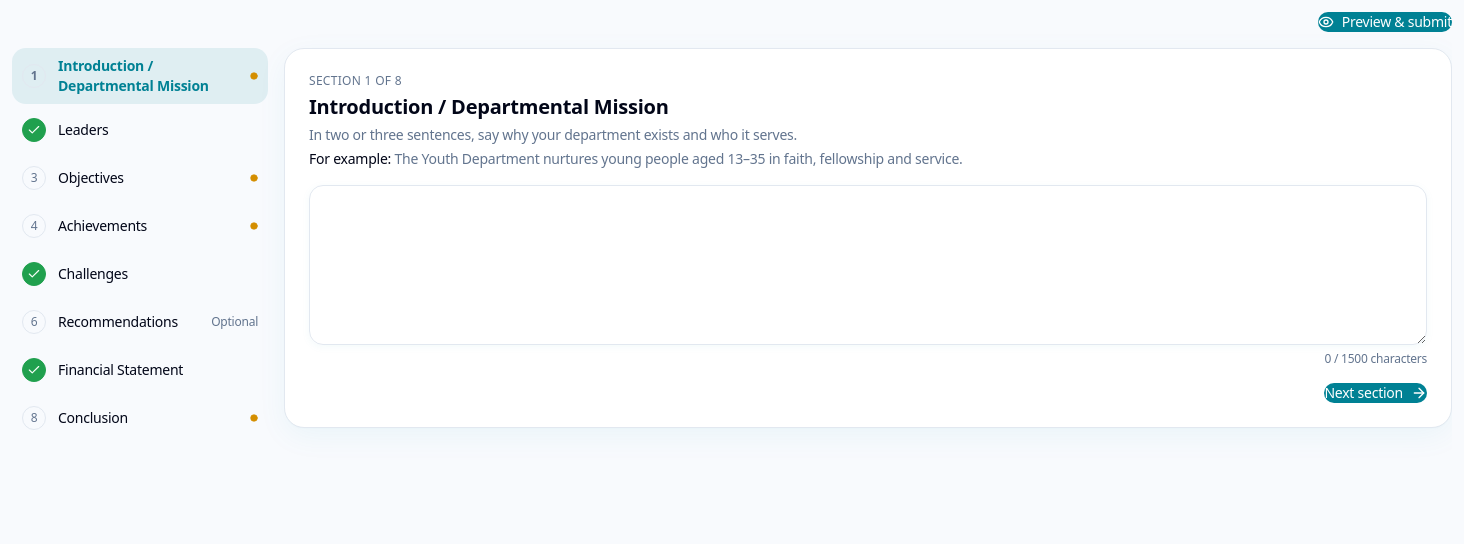
list sections › removes an item and warns about a blank line
The width and height of the screenshot is (1464, 544).
Click the button "Challenges" at (140, 274), box [12,252,268,296]
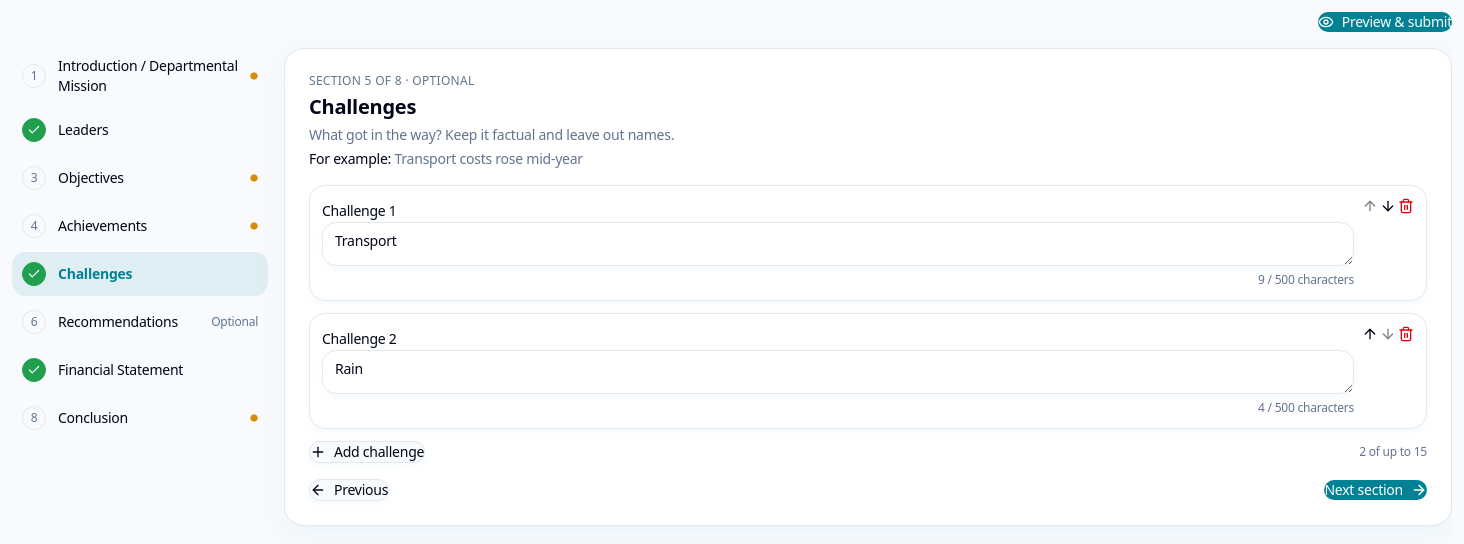
Click the button named "Remove challenge number 1" at (1406, 206), box [1398,198,1414,214]
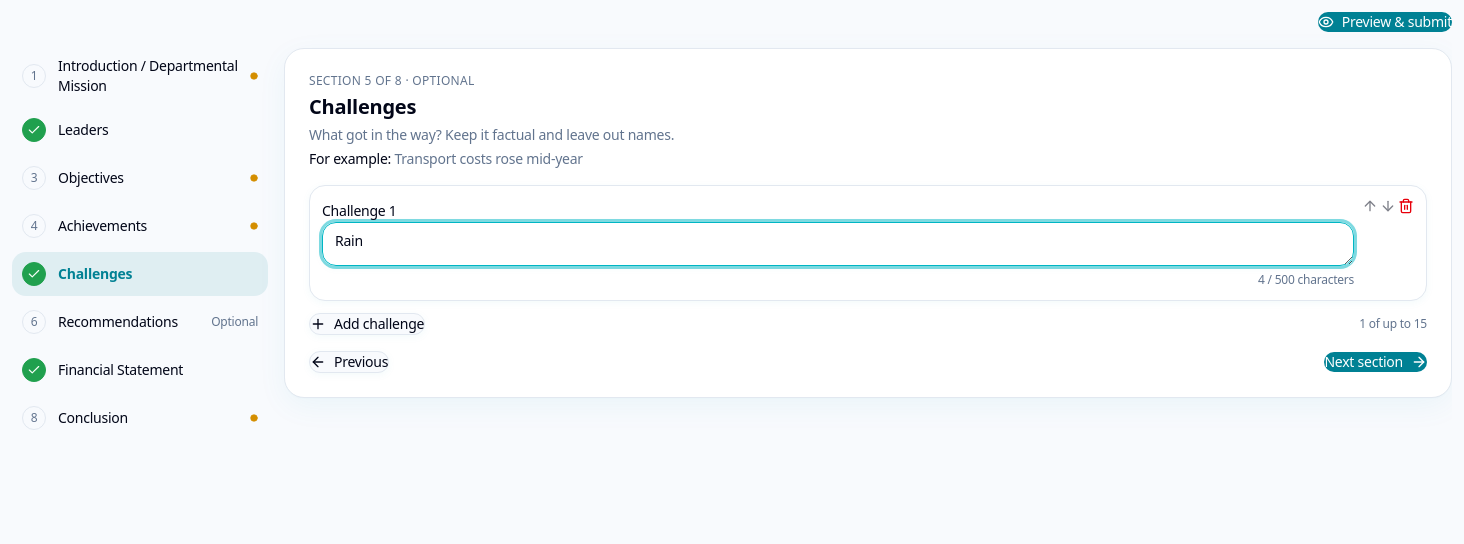
Clear the text box labelled "Challenge 1" at (838, 244), box [322,222,1354,266]
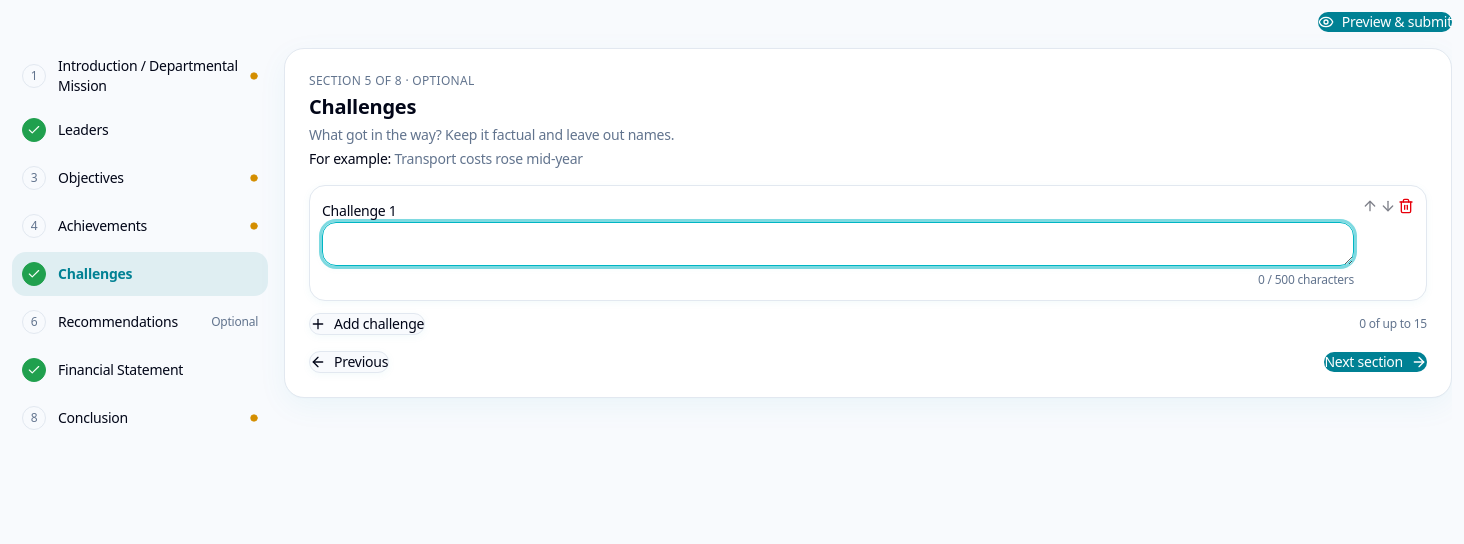
Press Tab
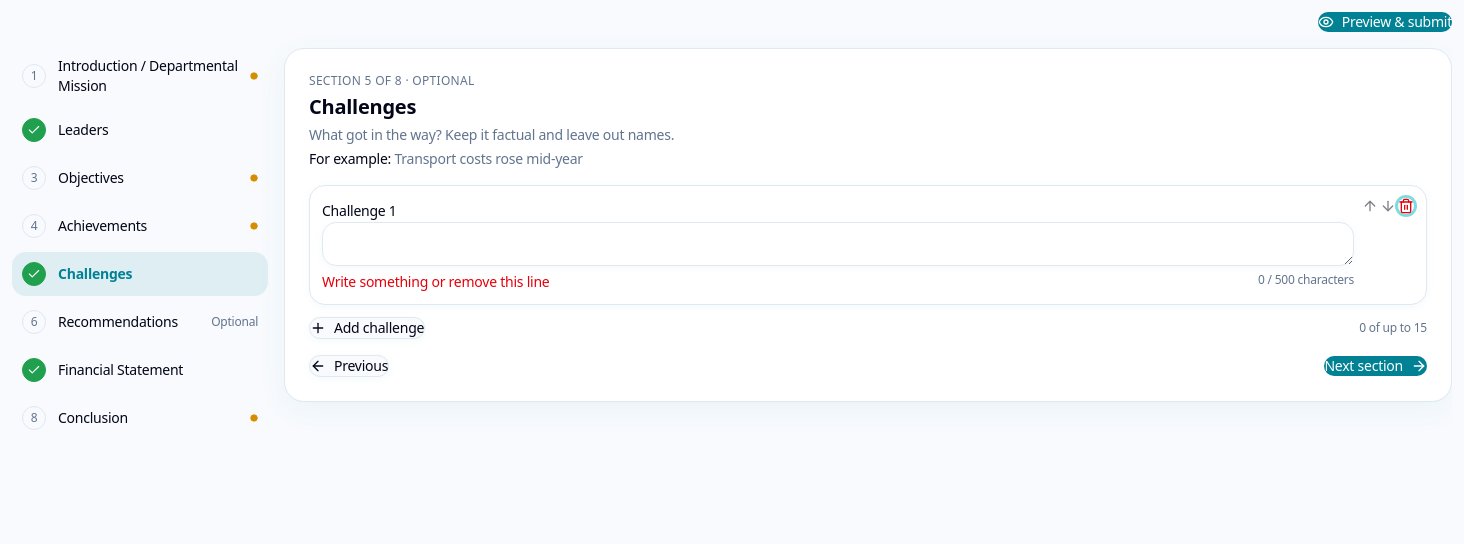
Now the message reads "Write something or remove this line", box [322,272,550,291]
